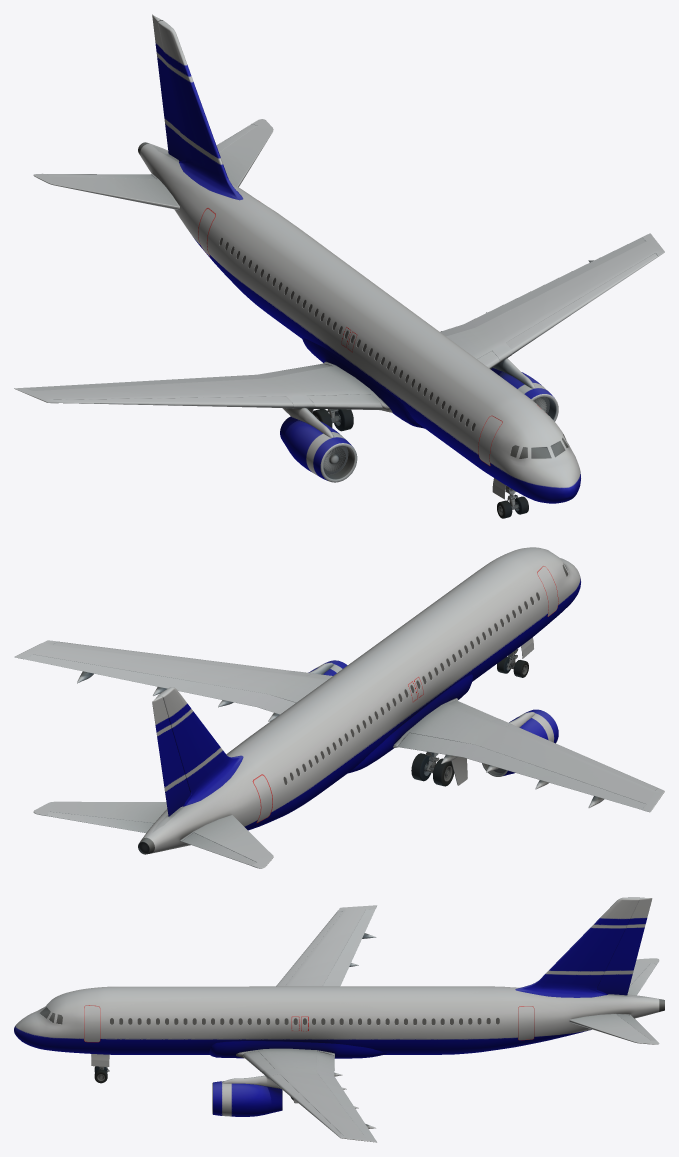
3 renders of one model, top to bottom at view 1: azimuth 30°, elevation 25°; view 2: azimuth 150°, elevation 25°; view 3: azimuth 270°, elevation 25°, orthographic. The views are drawn at different scales.
Visible parts, largest first — view 1: airplane.1_1; view 2: airplane.1_1; view 3: airplane.1_1.
Boxes of the visible parts, x1=… form: airplane.1_1: x1=14, y1=14, x2=664, y2=518; airplane.1_1: x1=14, y1=547, x2=664, y2=868; airplane.1_1: x1=14, y1=897, x2=664, y2=1142.
Bounding box in the file's own units: 1.82 × 0.6472 × 2.11.
1 material, 1 textured.
